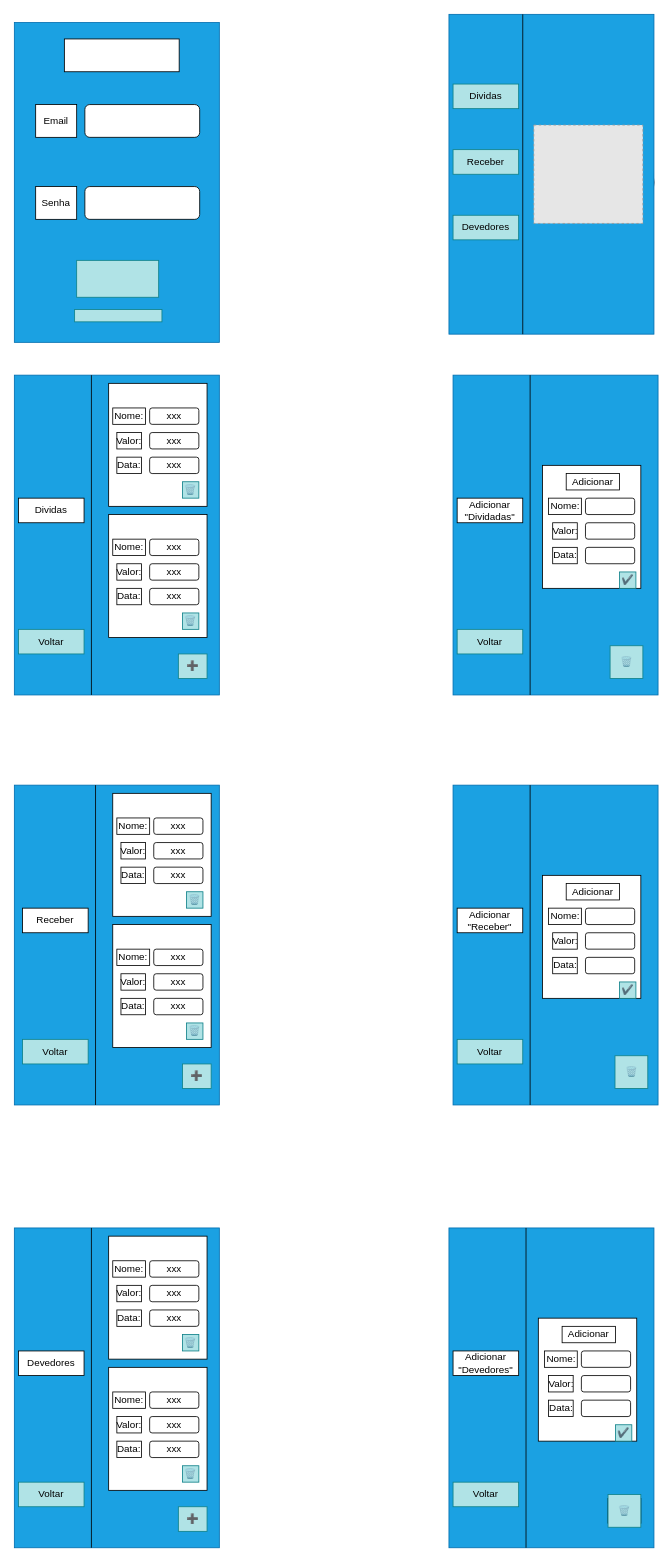
Image size: 672x1563. Some labels were removed from this diagram. Grey dashed boxes stand in for pictures. Each missing label, with the box of its shape:
Comfirmar: (76, 260, 159, 297)
esqueceu senha?: (74, 309, 162, 322)
Login: (64, 38, 179, 72)
